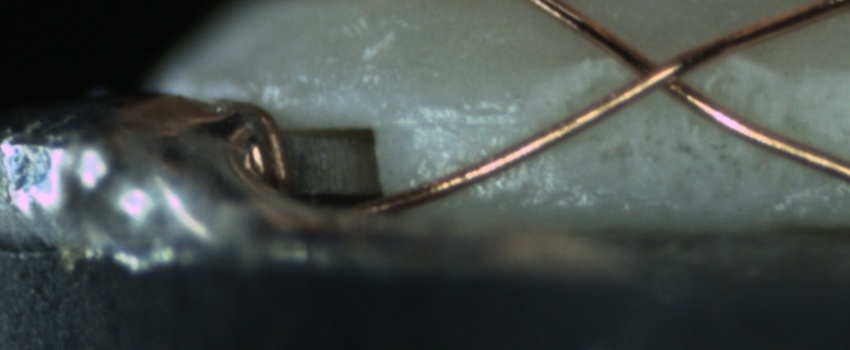CL: (607, 36, 709, 107)
DL: (400, 93, 535, 157)
TE: (216, 92, 303, 203)
